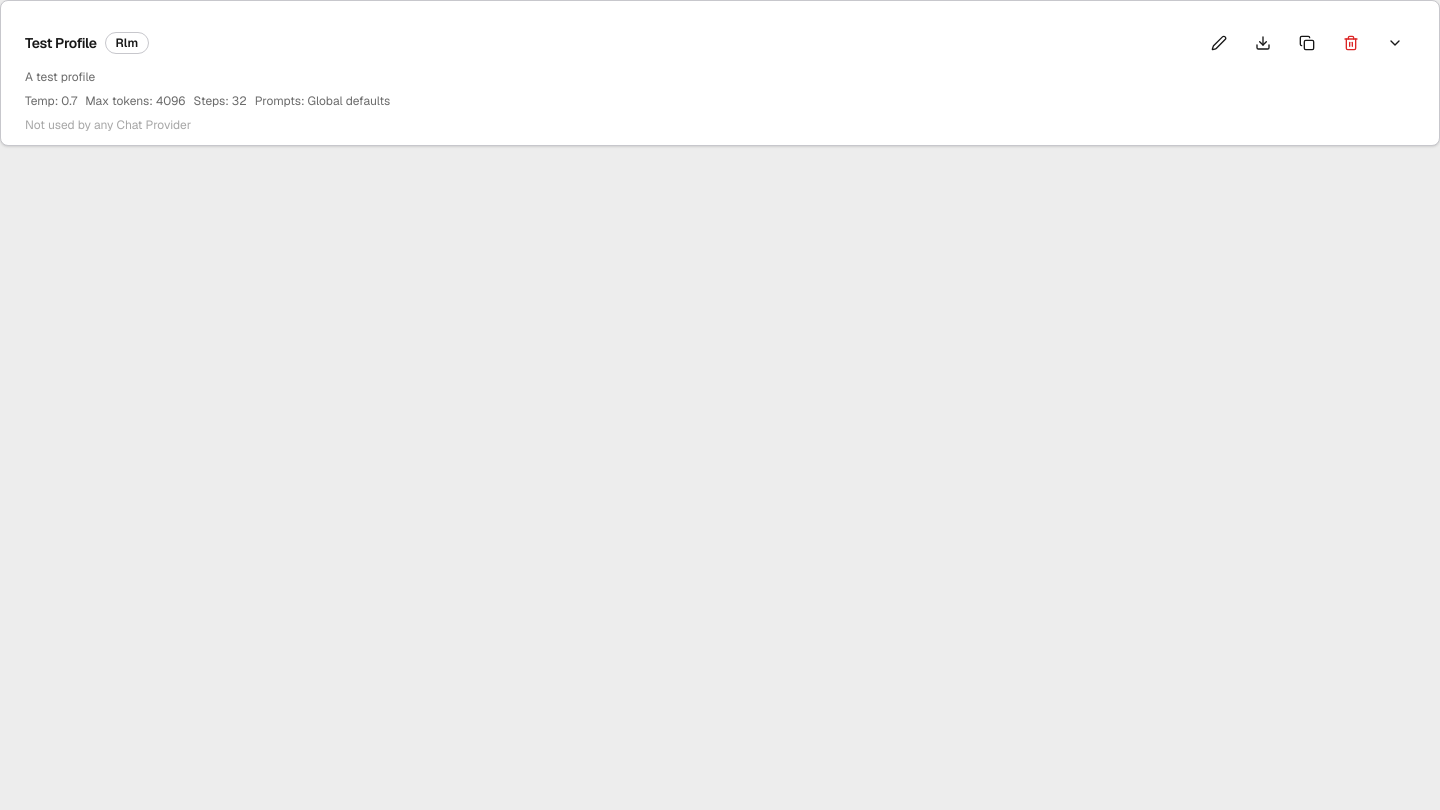
Test case: ProfileCard — editing form › shows Prompt Group label when editing
What coordinates should you click on to do the following:
click the button named "edit"
I would click on:
 (1219, 43)
Its box is x1=1199 y1=25 x2=1239 y2=61.
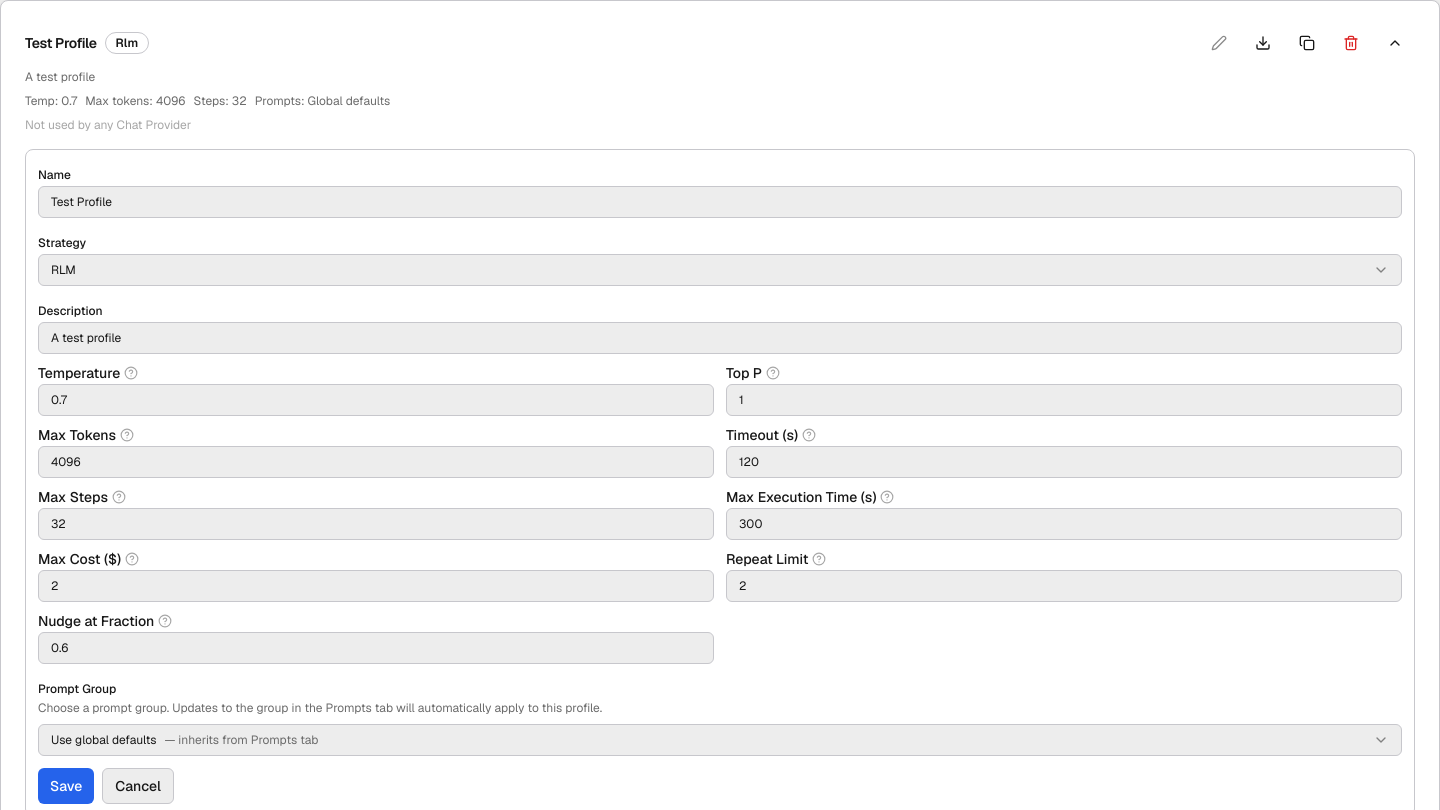
Check: the text "Prompt Group" is shown, box x1=38 y1=681 x2=116 y2=697
